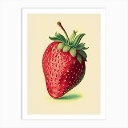strawberry: (41, 28, 88, 100)
